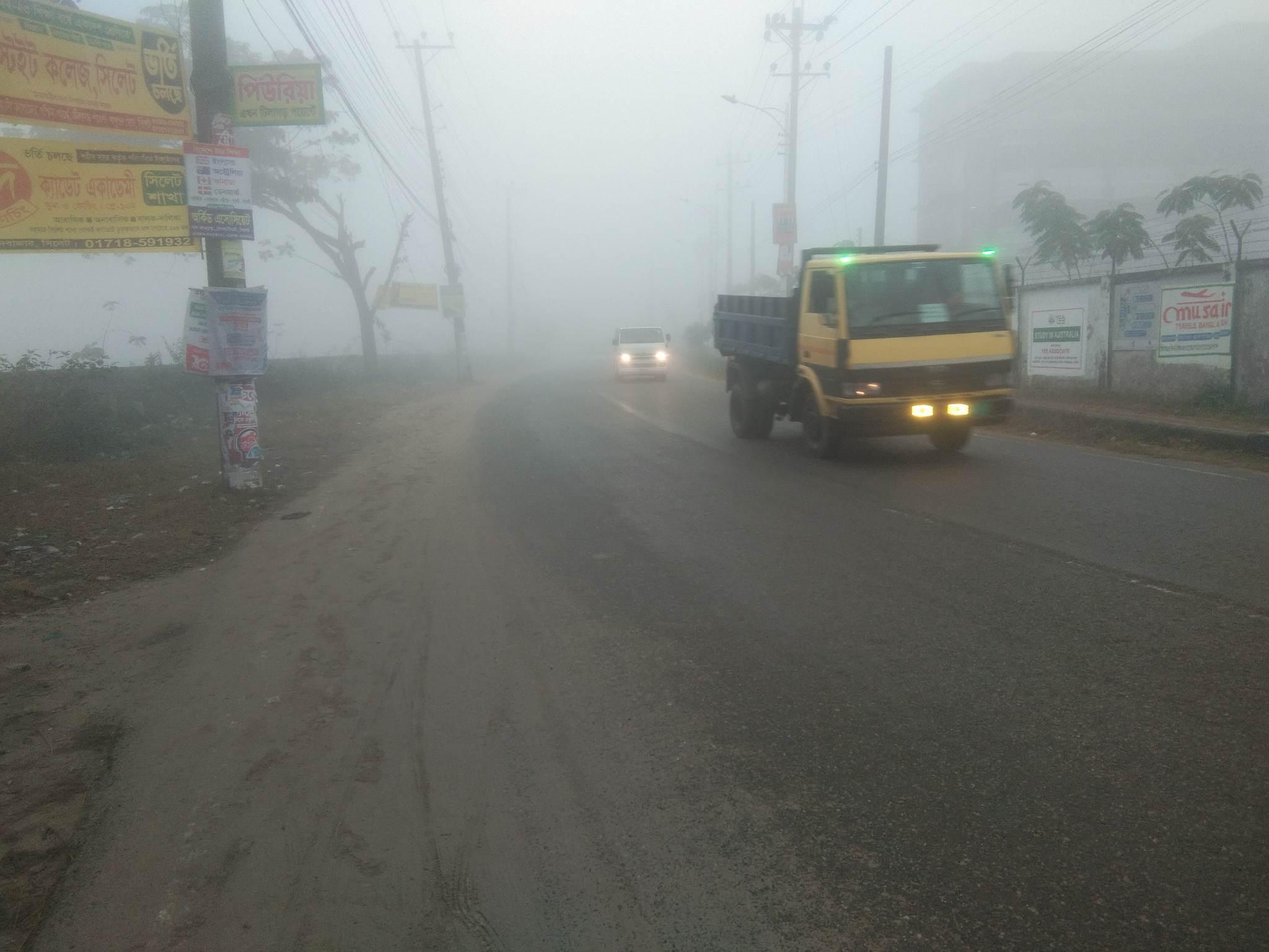Car: (607, 312, 682, 402)
Truck: (705, 234, 1033, 467)
